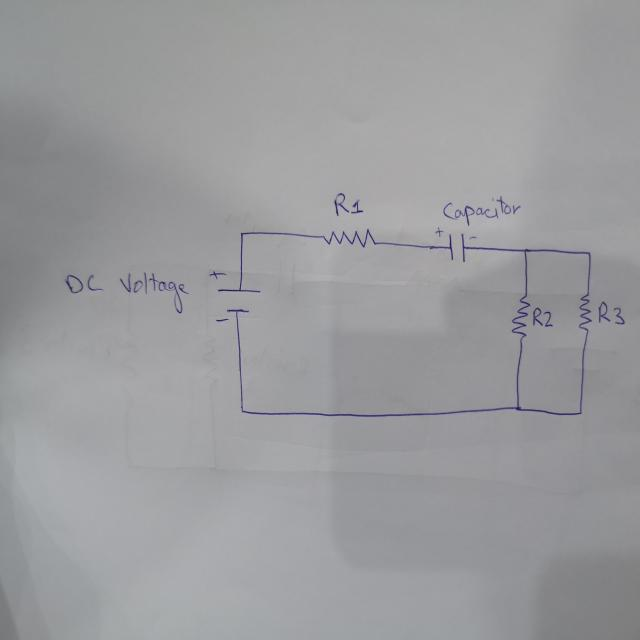capacitor: (432, 224, 479, 264)
junction: (510, 398, 525, 416), (236, 401, 249, 417), (520, 245, 530, 258), (237, 227, 247, 239), (576, 406, 585, 418), (584, 248, 594, 258)
resistor: (321, 226, 379, 248), (510, 292, 529, 340), (577, 290, 591, 333)
source: (215, 284, 263, 315)
text: (62, 266, 191, 316), (440, 198, 518, 222), (596, 300, 626, 326), (332, 192, 363, 216), (532, 306, 554, 329)
